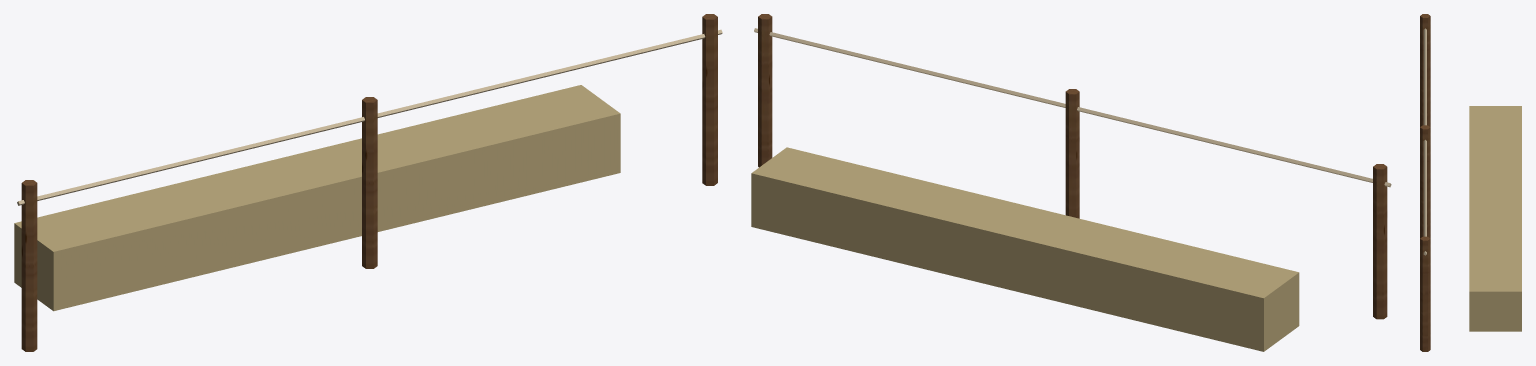
Rendered from horse_hitching_line.glb.
The picture shows the model from 3 angles, left to right: view 1: azimuth 30°, elevation 25°; view 2: azimuth 150°, elevation 25°; view 3: azimuth 270°, elevation 25°; orthographic projection. The views are drawn at different scales.
Parts seen in each view (by area): view 1: Horse_Hitching_Line; view 2: Horse_Hitching_Line; view 3: Horse_Hitching_Line.
Boxes of the visible parts, <box> form: Horse_Hitching_Line: <box>14,14,722,351</box>; Horse_Hitching_Line: <box>751,14,1391,351</box>; Horse_Hitching_Line: <box>1420,14,1521,351</box>.
Size of the model in its own units: 6.2 by 1.4 by 1.16.
Materials: 3 (1 with a texture image).
